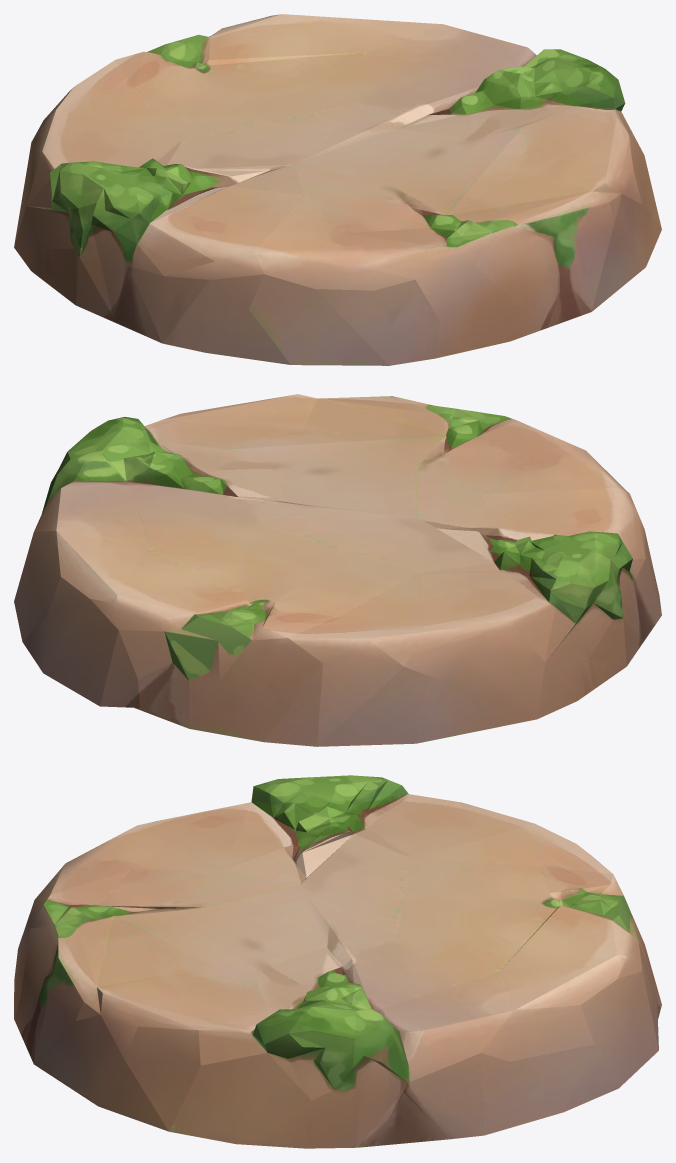
The model's file is stepping-stone.glb.
3 views of the same model, one above another, from view 1: azimuth 30°, elevation 25°; view 2: azimuth 150°, elevation 25°; view 3: azimuth 270°, elevation 25° (orthographic). The views are drawn at different scales.
Size of the model in its own units: 1.9 by 0.3802 by 1.89.
Materials: 1 (1 with a texture image).
